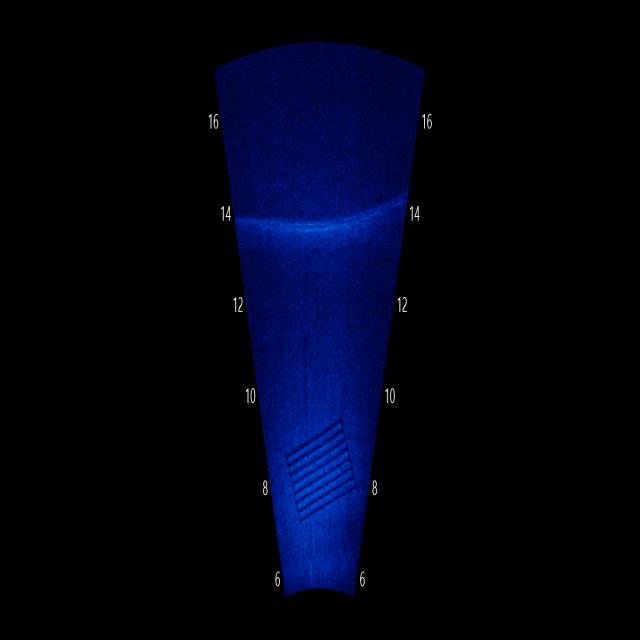square: (280, 409, 361, 535)
